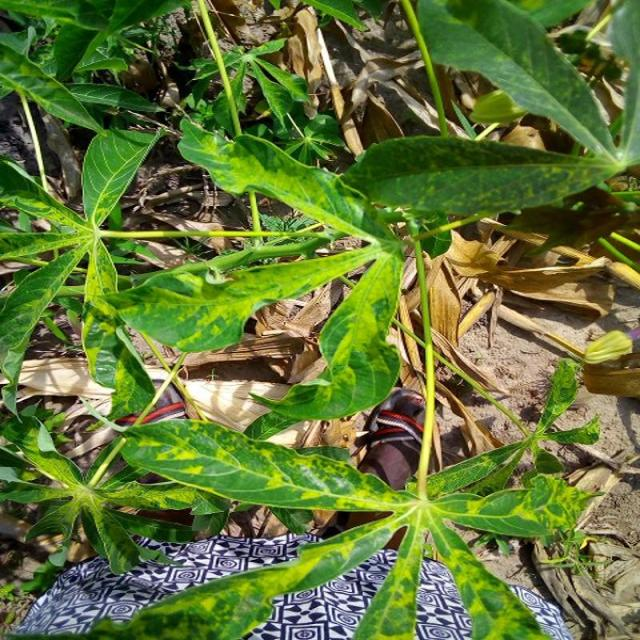cassava leaf: (119, 416, 414, 514)
